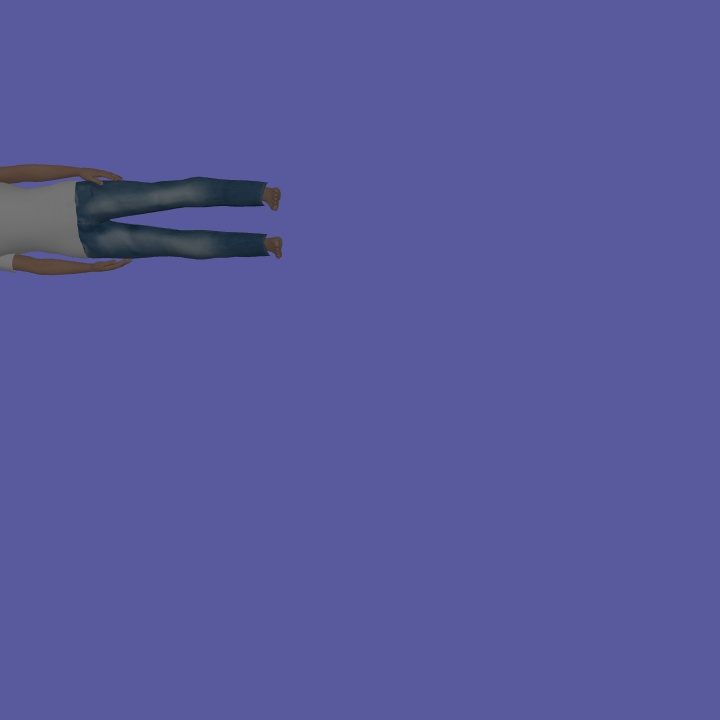victim: (1, 152, 288, 277)
